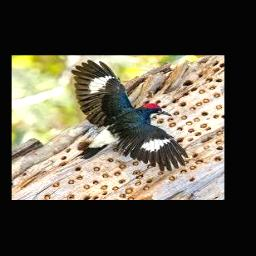Woodpecker: (71, 60, 189, 171)
